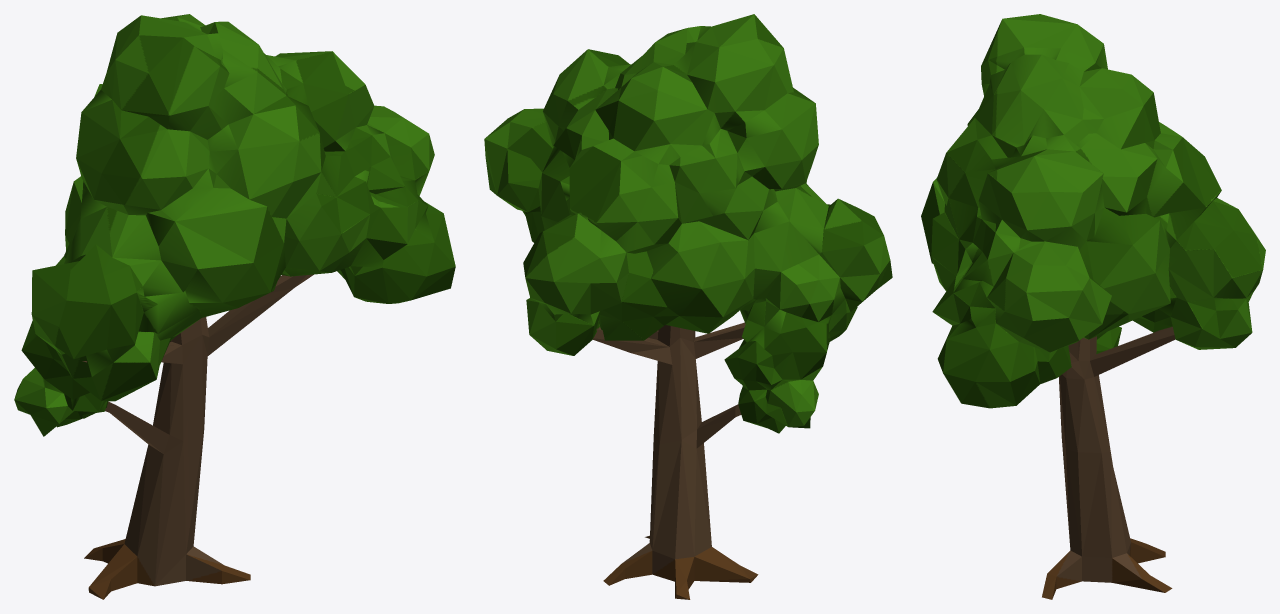
File: tree1.obj
3 views of the same model, side by side, from view 1: azimuth 30°, elevation 25°; view 2: azimuth 150°, elevation 25°; view 3: azimuth 270°, elevation 25° (orthographic). The views are drawn at different scales.
Parts seen in each view (by area): view 1: _6_tree.002_Cube.473; view 2: _6_tree.002_Cube.473; view 3: _6_tree.002_Cube.473.
Part boxes in pixels (x1,y1,x2,y2): _6_tree.002_Cube.473: [14, 14, 455, 599]; _6_tree.002_Cube.473: [484, 14, 892, 599]; _6_tree.002_Cube.473: [921, 14, 1265, 599].
Bounding box in the file's own units: 2.02 × 2.71 × 1.57.
